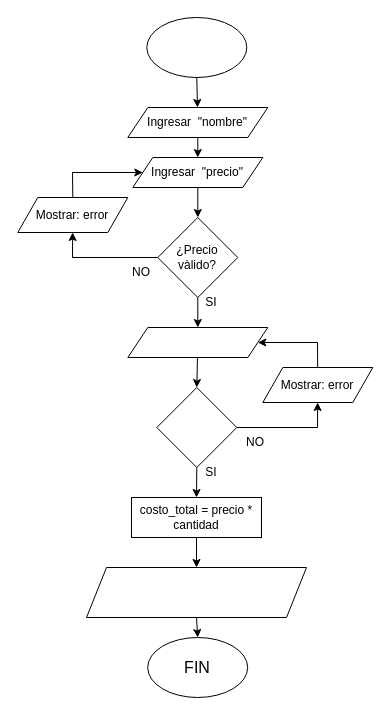
Image size: 390x715. Some labels were removed from this diagram. Here are the shapes that lost their labels. From the top down, the centre of each, then its label:
the point at 196,47: INICIO
the point at 197,342: Ingresar "cantidad"
the point at 196,427: ¿Cantidad vàlida?
the point at 196,592: Mostrar: "nombre " + "precio" + "cantidad" + "costo total"
